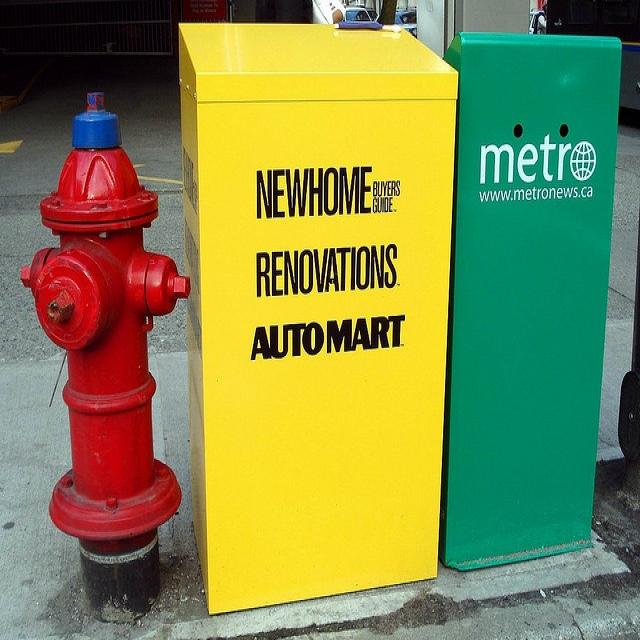fire_hydrant: (17, 104, 191, 619)
